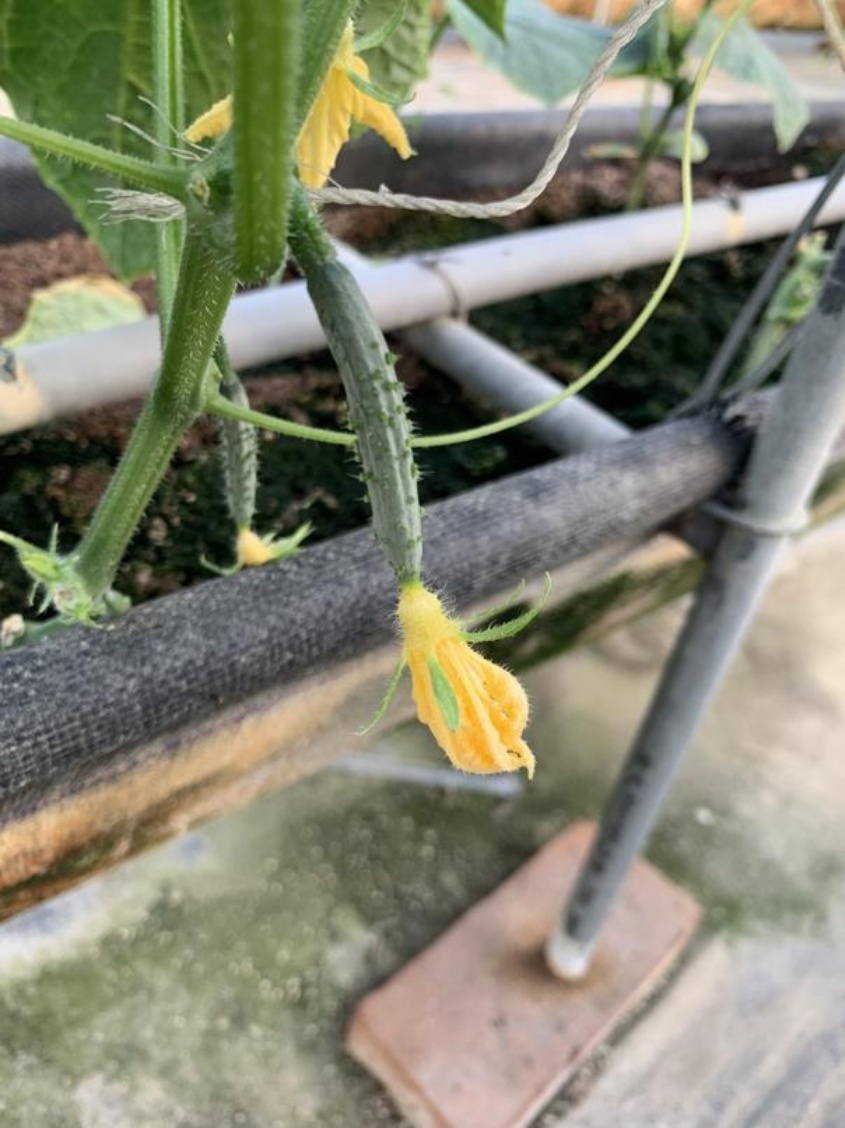bear: (283, 251, 540, 746)
